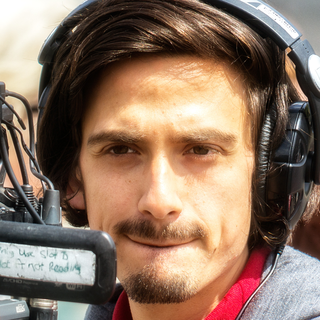eye: (98, 139, 147, 163), (178, 140, 226, 163)
